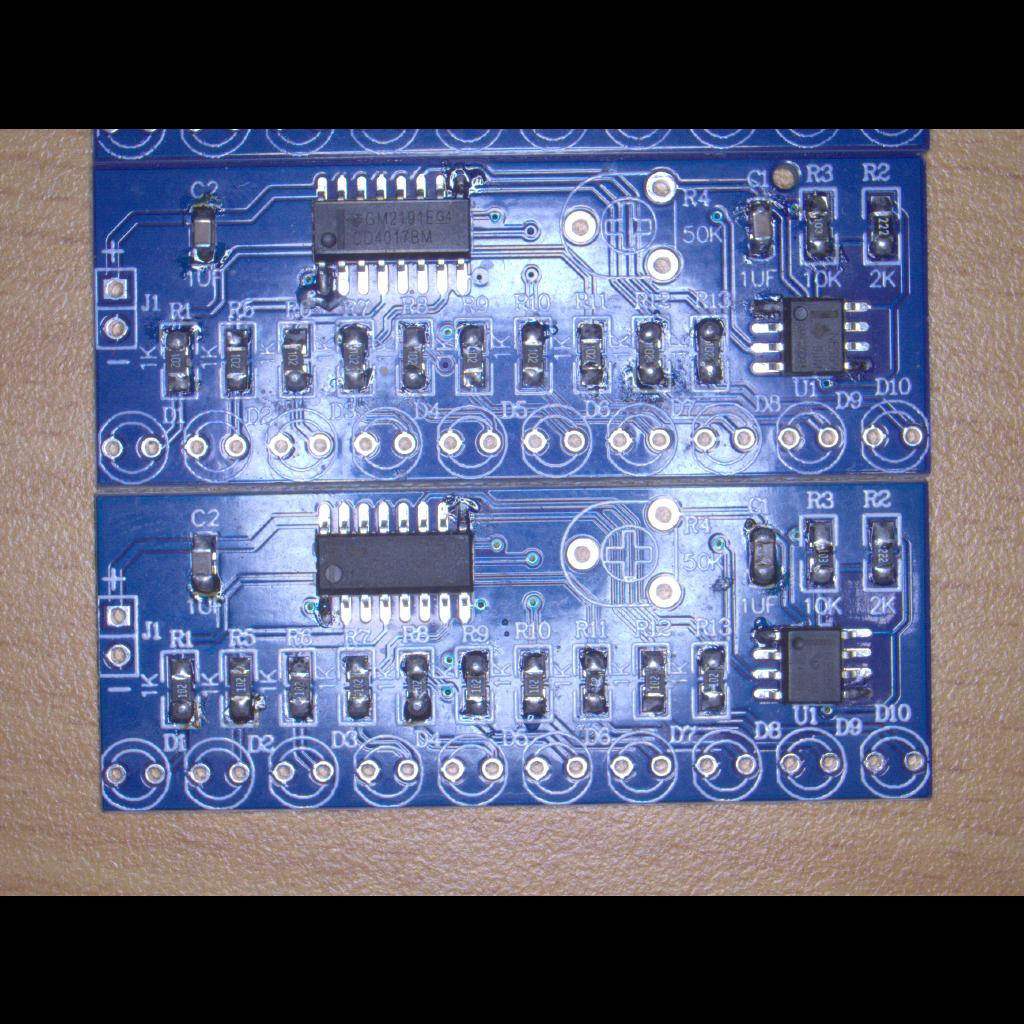OK: (305, 169, 485, 305), (306, 494, 484, 628), (742, 290, 884, 382), (748, 616, 874, 710), (794, 182, 842, 270), (858, 184, 908, 268), (686, 309, 734, 395), (333, 644, 381, 728), (158, 646, 204, 732), (216, 647, 262, 733), (276, 644, 322, 730), (861, 510, 907, 596), (180, 196, 230, 274), (628, 310, 674, 394), (392, 316, 438, 400), (331, 314, 377, 398), (214, 318, 260, 402), (796, 512, 844, 592), (452, 313, 496, 399), (157, 318, 201, 404), (512, 640, 556, 726), (510, 314, 556, 396), (571, 312, 615, 396), (689, 638, 733, 722), (274, 316, 318, 398), (396, 645, 440, 727), (570, 641, 614, 723), (453, 644, 497, 724), (631, 642, 675, 722), (184, 526, 224, 608), (743, 518, 785, 590), (738, 194, 782, 262)
